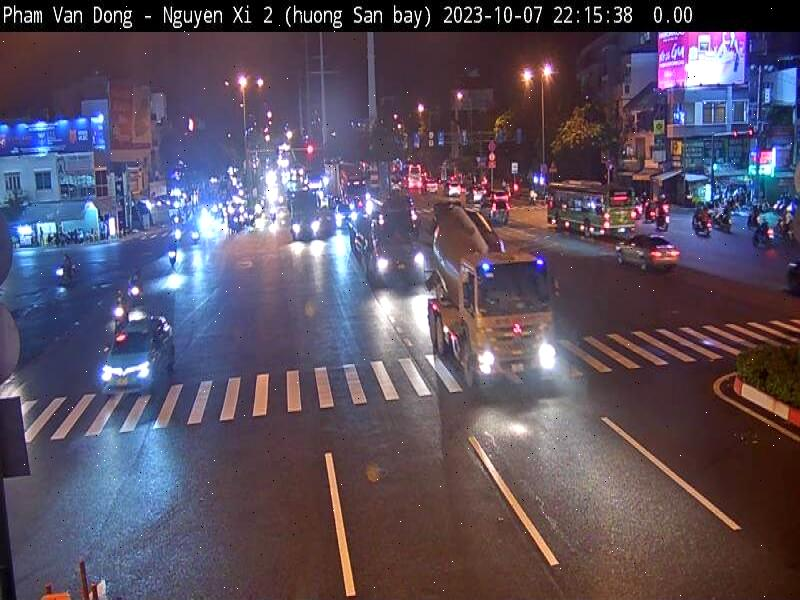car: (105, 315, 174, 392), (617, 236, 681, 274)
motorcycle: (692, 208, 712, 237)
truck: (428, 204, 550, 392), (548, 180, 606, 237)
